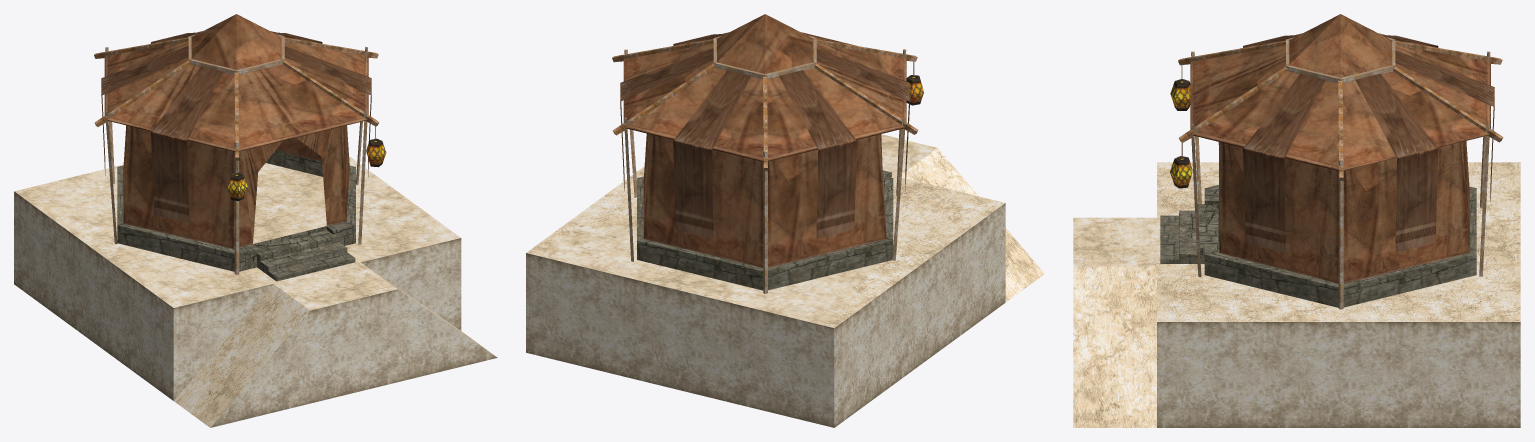
File: ply_tato_merchant_tent_s01_r0_mesh_l1.fbx
3 renders of one model, left to right at view 1: azimuth 30°, elevation 25°; view 2: azimuth 150°, elevation 25°; view 3: azimuth 270°, elevation 25°, orthographic. The views are drawn at different scales.
Parts seen in each view (by area): view 1: mesh_node; view 2: mesh_node; view 3: mesh_node.
Part boxes in pixels (x1,y1,x2,y2): mesh_node: (14,14,497,427); mesh_node: (526,14,1044,427); mesh_node: (1073,14,1520,427).
Size of the model in its own units: 9.05 by 8.81 by 10.7.
